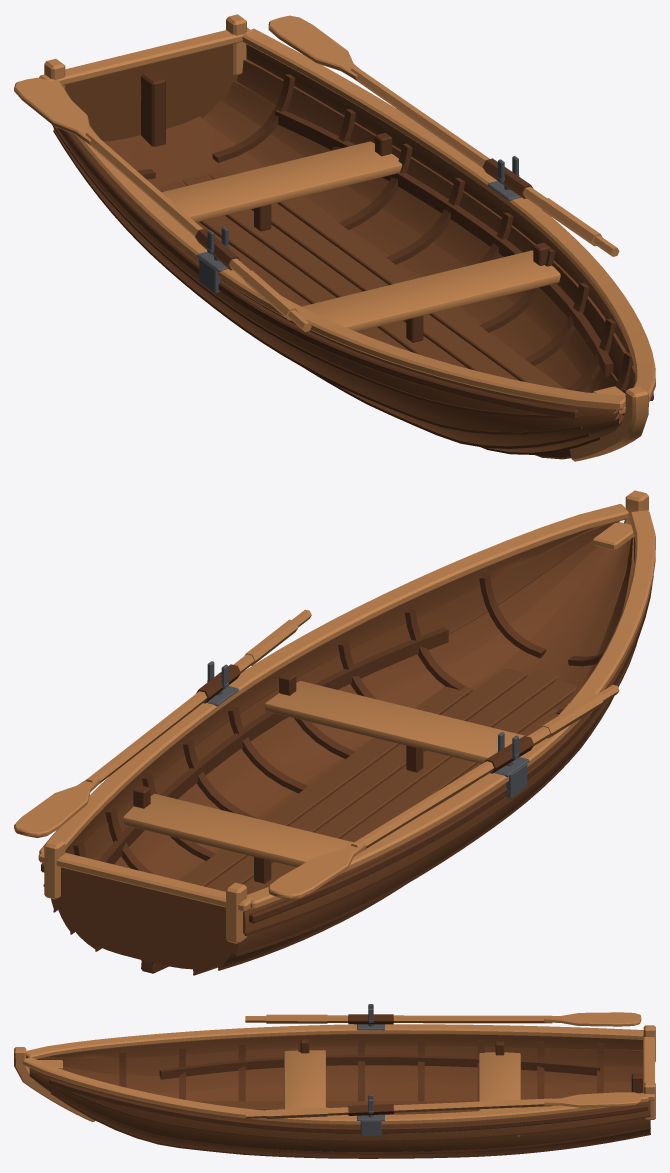
The model's file is Rowboat.fbx.
3 views of the same model, one above another, from view 1: azimuth 30°, elevation 25°; view 2: azimuth 150°, elevation 25°; view 3: azimuth 270°, elevation 25° (orthographic). The views are drawn at different scales.
Visible parts, largest first — view 1: Rowboat_Mesh; view 2: Rowboat_Mesh; view 3: Rowboat_Mesh.
Boxes of the visible parts, x1,y1,x2,y2 form: Rowboat_Mesh: [14, 14, 655, 461]; Rowboat_Mesh: [14, 490, 655, 975]; Rowboat_Mesh: [14, 1004, 655, 1158].
Bounding box in the file's own units: 1.34 × 0.572 × 3.68.
